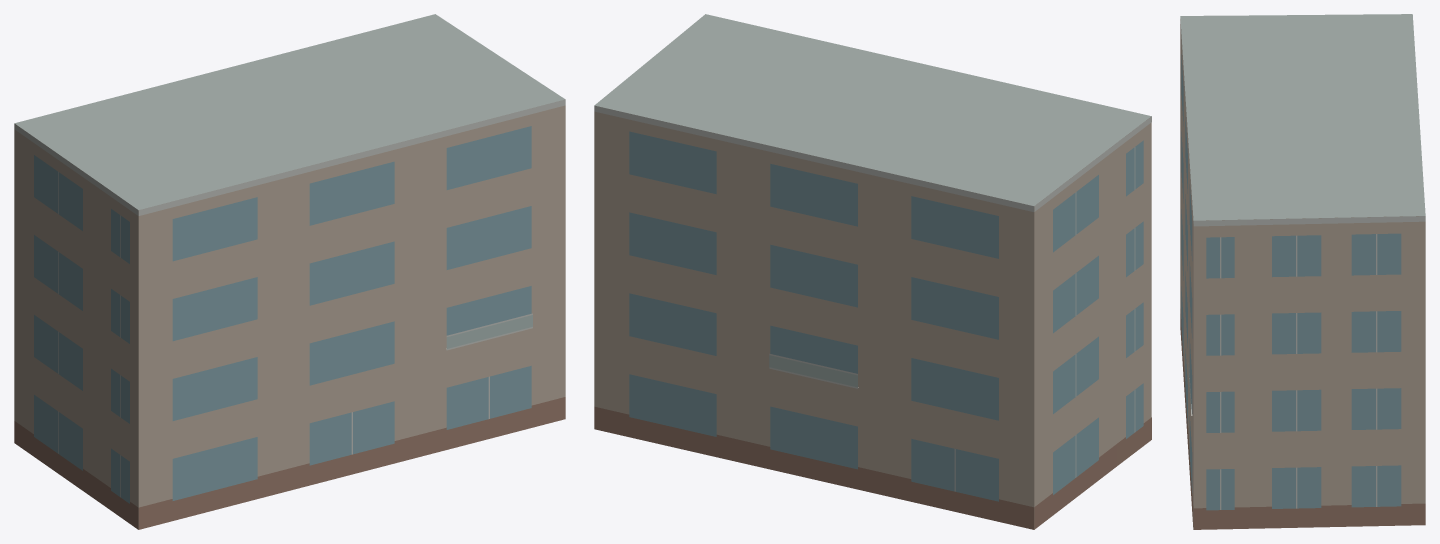
The model's file is survey-upis-32755464.glb.
3 views of the same model, side by side, from view 1: azimuth 30°, elevation 25°; view 2: azimuth 150°, elevation 25°; view 3: azimuth 270°, elevation 25° (orthographic). The views are drawn at different scales.
Parts seen in each view (by area): view 1: survey-upis-32755464.tmp; view 2: survey-upis-32755464.tmp; view 3: survey-upis-32755464.tmp.
Part boxes in pixels (box(x1,y1,x2,y2)): survey-upis-32755464.tmp: box(14, 14, 565, 529); survey-upis-32755464.tmp: box(594, 14, 1151, 529); survey-upis-32755464.tmp: box(1180, 14, 1425, 529).
Bounding box in the file's own units: 18.79 × 13.1 × 9.43.
